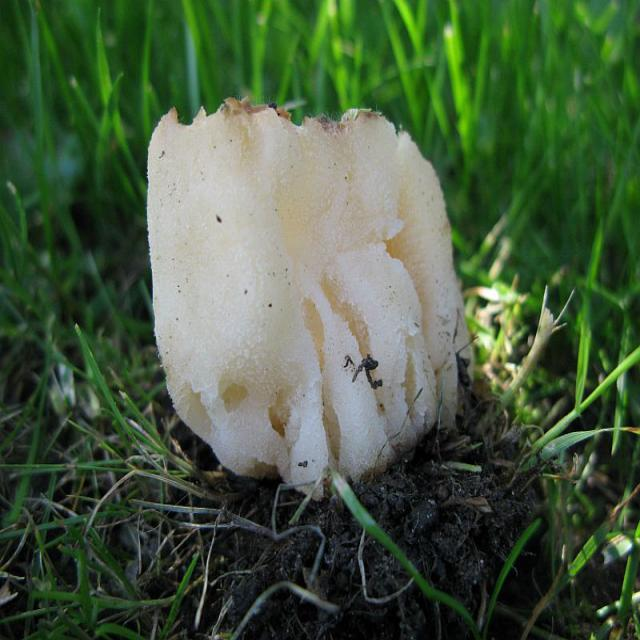Morchella esculenta: (148, 104, 473, 489)
